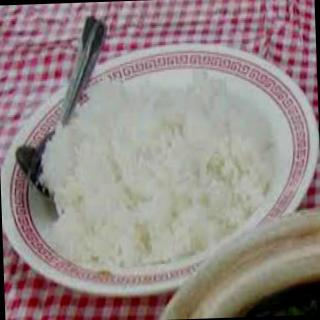Nasi: (36, 66, 288, 274)
